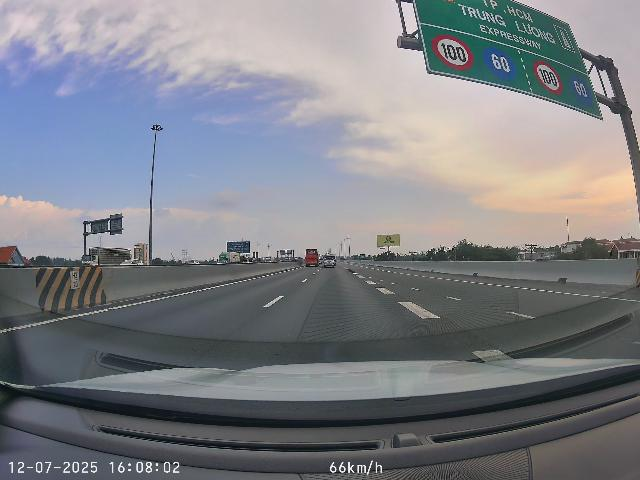127-toc-do-toi-da-100: (431, 34, 474, 71), (533, 60, 563, 94)
306-toc-do-toi-thieu-60: (482, 47, 518, 80), (570, 74, 593, 105)
437-bat-dau-duong-cao-toc: (554, 25, 575, 52)
